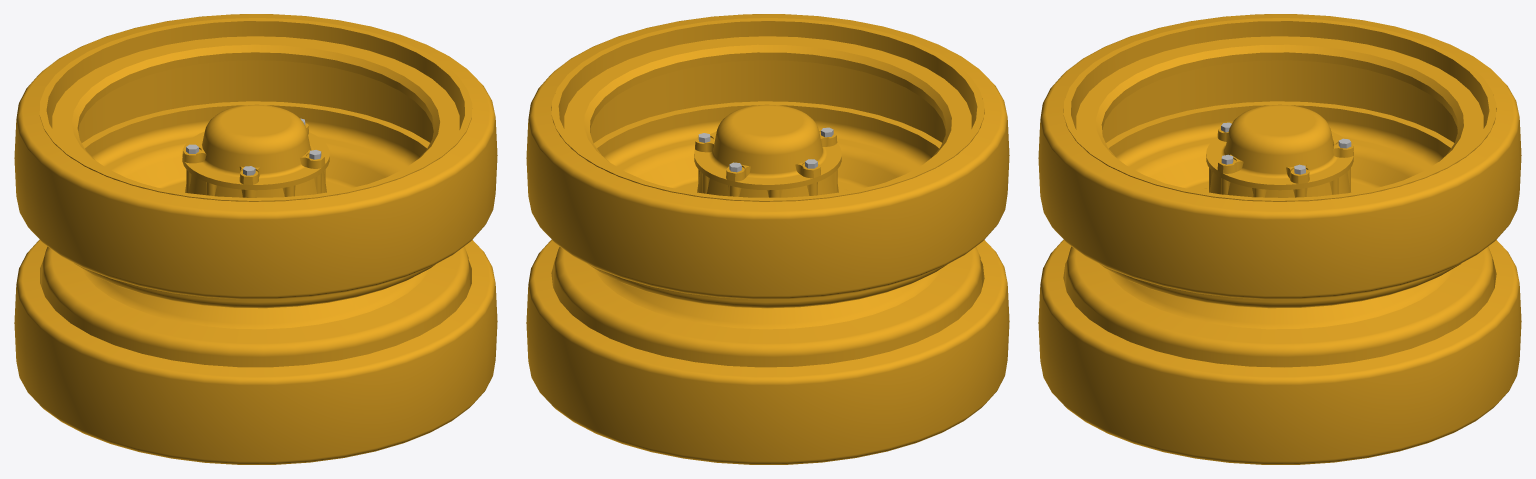
File: fzl-meshed.FBX
3 renders of one model, left to right at view 1: azimuth 30°, elevation 25°; view 2: azimuth 150°, elevation 25°; view 3: azimuth 270°, elevation 25°, orthographic.
Parts seen in each view (by area): view 1: 基体-旋转 (×4), 倒角1 (×2), 倒角2, 圆角8, 圆角15; view 2: 基体-旋转 (×4), 倒角1 (×2), 倒角2, 圆角8, 圆角15; view 3: 基体-旋转 (×4), 倒角1 (×2), 倒角2, 圆角8, 圆角15.
Boxes of the visible parts, <box> form: 基体-旋转 (×4): <box>14,14,497,464</box>; 倒角1 (×2): <box>82,101,429,329</box>; 倒角2: <box>52,36,459,183</box>; 圆角8: <box>182,104,329,190</box>; 圆角15: <box>185,169,326,197</box>; 基体-旋转 (×4): <box>526,14,1009,464</box>; 倒角1 (×2): <box>593,101,941,329</box>; 倒角2: <box>564,36,971,182</box>; 圆角8: <box>694,104,841,190</box>; 圆角15: <box>697,169,838,197</box>; 基体-旋转 (×4): <box>1038,14,1521,464</box>; 倒角1 (×2): <box>1106,101,1454,329</box>; 倒角2: <box>1076,36,1483,182</box>; 圆角8: <box>1206,104,1353,190</box>; 圆角15: <box>1209,168,1350,197</box>.
Size of the model in its own units: 66.87 by 39.8 by 67.
